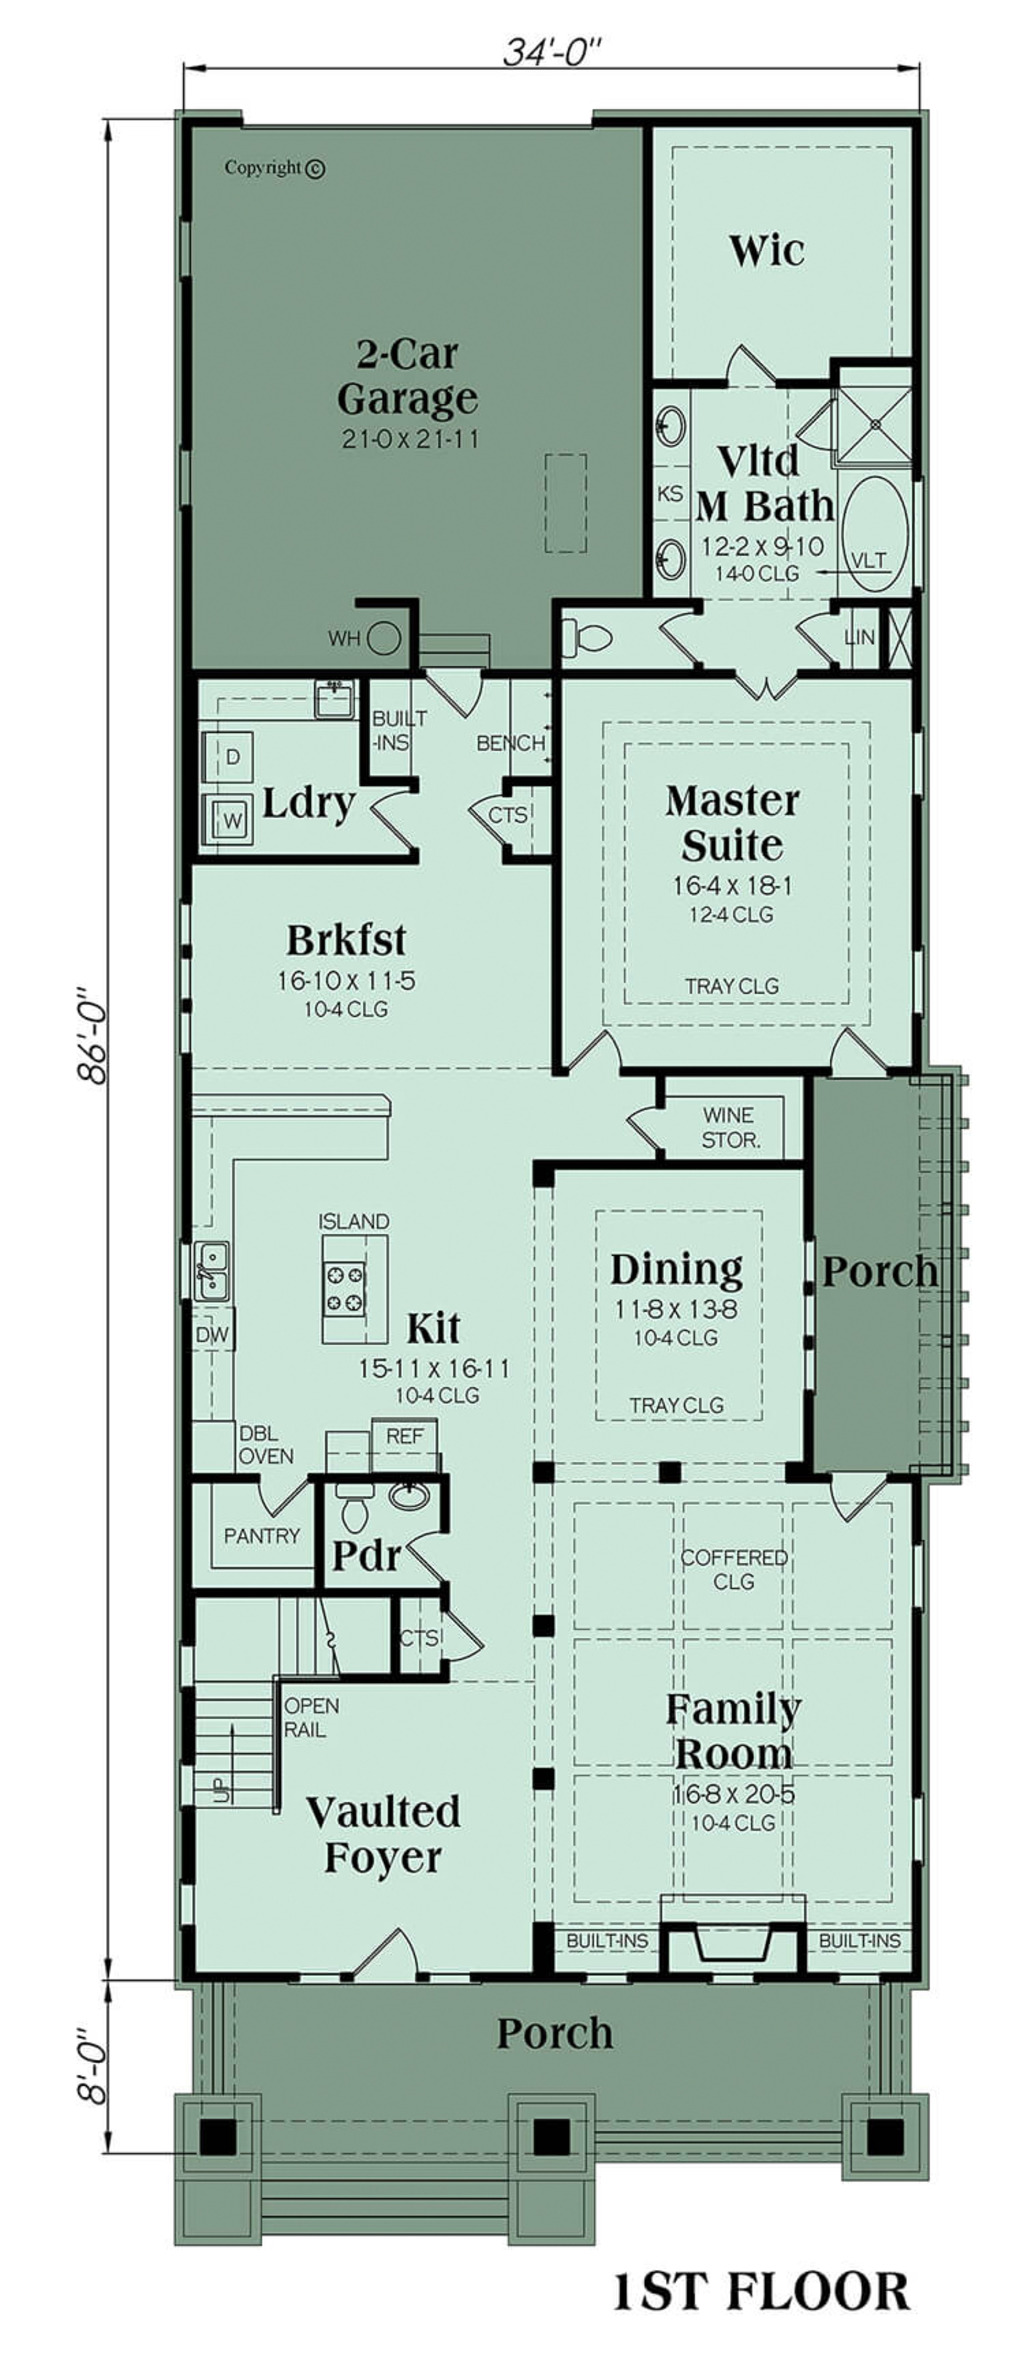door: (806, 1445, 913, 1518), (342, 1915, 423, 2001), (718, 330, 806, 409), (461, 778, 535, 871), (617, 1093, 698, 1174), (806, 1012, 890, 1081), (369, 775, 438, 852), (569, 1008, 640, 1081), (733, 664, 817, 722), (420, 649, 491, 715), (661, 611, 724, 677), (797, 593, 847, 677), (405, 1523, 480, 1571), (443, 1619, 498, 1672), (254, 1464, 302, 1518)
large_sink: (550, 586, 655, 671), (317, 1478, 390, 1545)
small_sink: (643, 375, 703, 604)
stairs: (185, 1594, 410, 1829)
tub: (827, 460, 913, 608)
twin_sink: (176, 1235, 254, 1313)
